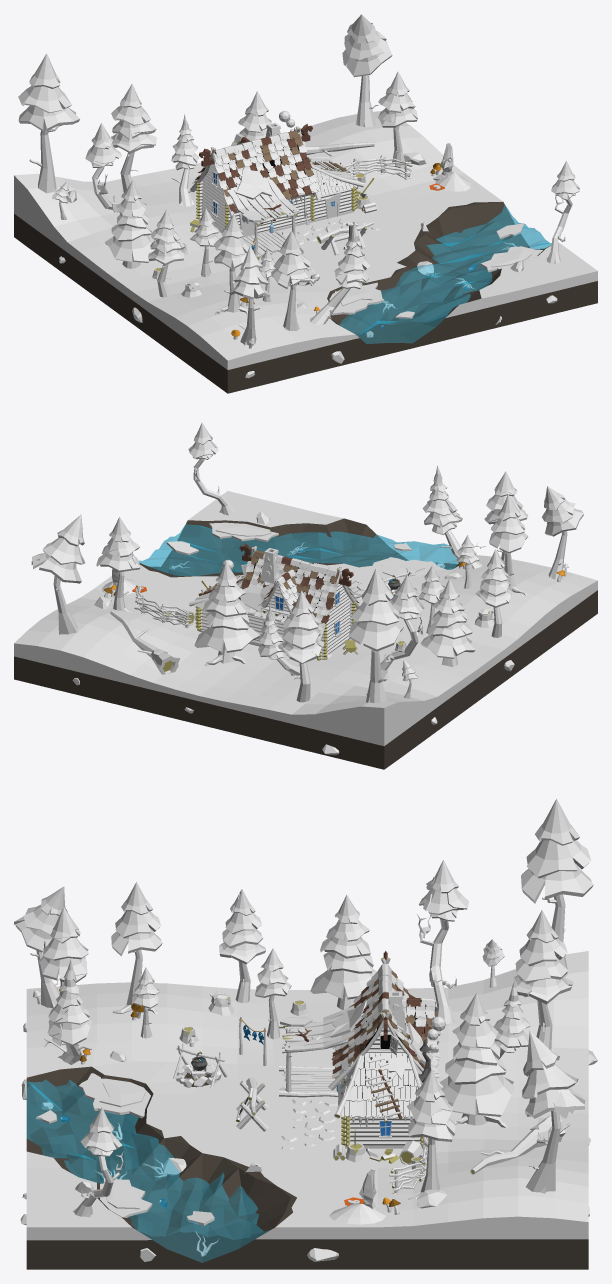
The model's file is Stylized_log_house.fbx.
3 renders of one model, top to bottom at view 1: azimuth 30°, elevation 25°; view 2: azimuth 150°, elevation 25°; view 3: azimuth 270°, elevation 25°, orthographic. The views are drawn at different scales.
Visible parts, largest first — view 1: Plane.019, Plane.055, Roof, Circle.106, Fig_tree.002, Circle.109, Circle.080, Circle.076, Circle.118, Cube.007, Circle.117, Circle.108 (+19 smaller); view 2: Plane.019, Plane.055, Roof, Circle.106, Fig_tree, Fig_tree.002, Circle.109, Circle.080, Circle.108, Circle.076, Circle.111, Circle.118 (+17 smaller); view 3: Plane.019, Plane.055, Fig_tree, Circle.106, Roof, Fig_tree.002, Plank_roof, Circle.109, Circle.076, Circle.116, Circle.108, Circle.080 (+24 smaller).
Boxes of the visible parts, box(x1,y1,x2,y2) form: Plane.019: box(14, 111, 597, 393); Plane.055: box(339, 205, 551, 343); Roof: box(192, 130, 319, 212); Circle.106: box(18, 53, 79, 193); Fig_tree.002: box(105, 180, 156, 268); Circle.109: box(342, 24, 392, 127); Circle.080: box(229, 245, 270, 346); Circle.076: box(213, 213, 249, 312); Circle.118: box(148, 211, 184, 297); Cube.007: box(227, 179, 298, 222); Circle.117: box(271, 248, 310, 330); Circle.108: box(112, 83, 155, 192); Plane.019: box(14, 491, 597, 769); Plane.055: box(139, 524, 458, 576); Roof: box(238, 550, 358, 632); Circle.106: box(349, 568, 403, 702); Fig_tree: box(194, 561, 260, 663); Fig_tree.002: box(420, 578, 475, 666); Circle.109: box(33, 535, 85, 634); Circle.080: box(542, 486, 583, 579); Circle.108: box(278, 590, 321, 702); Circle.076: box(489, 494, 527, 592); Circle.111: box(422, 480, 485, 568); Circle.118: box(477, 550, 512, 637); Plane.019: box(26, 951, 588, 1269); Plane.055: box(27, 1080, 269, 1262); Fig_tree: box(439, 992, 514, 1125); Circle.106: box(521, 798, 593, 977); Roof: box(331, 963, 440, 1078); Fig_tree.002: box(310, 894, 376, 1009); Plank_roof: box(334, 1053, 422, 1118); Circle.109: box(522, 1057, 585, 1193); Circle.076: box(111, 882, 162, 1010); Circle.116: box(417, 860, 463, 1023); Circle.108: box(512, 910, 571, 1049); Circle.080: box(14, 886, 67, 1008).
Bounding box in the file's own units: 6763 × 3175 × 6798.
